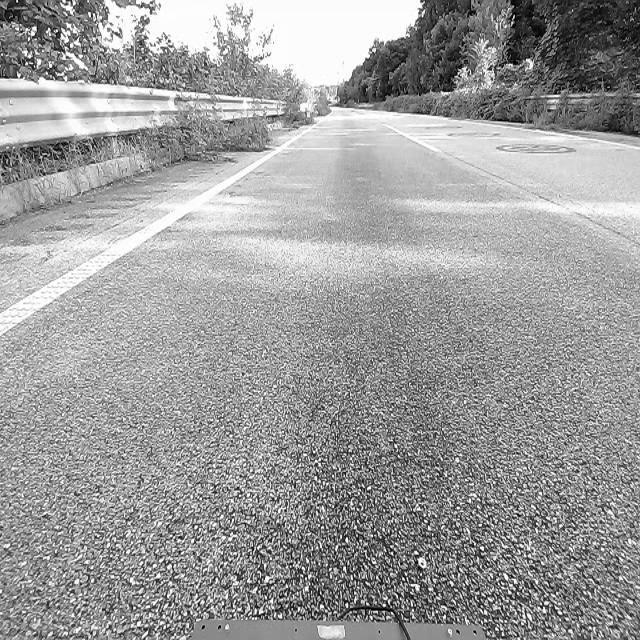Lane: (0, 110, 330, 347), (0, 130, 307, 336), (368, 113, 547, 205), (382, 123, 515, 186)
